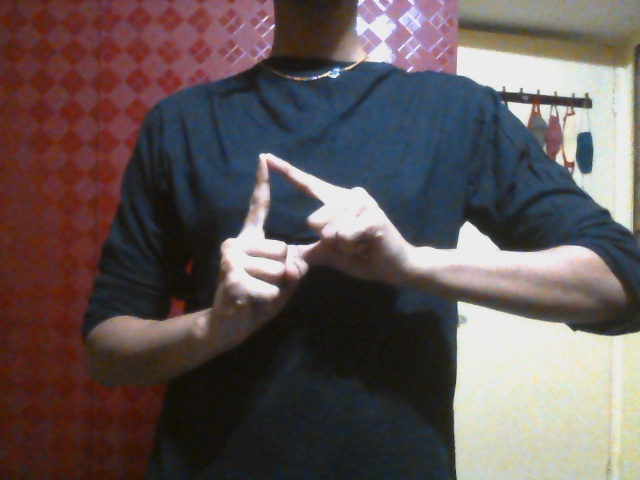D: (211, 151, 428, 338)
